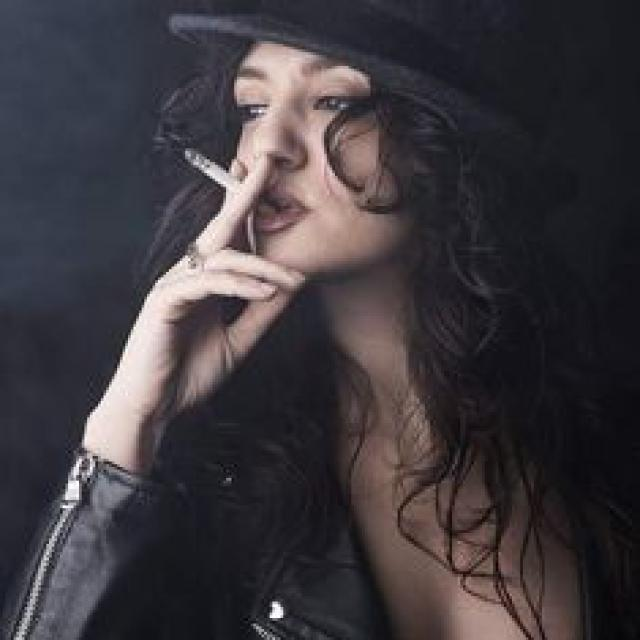rokok: (185, 144, 247, 202)
